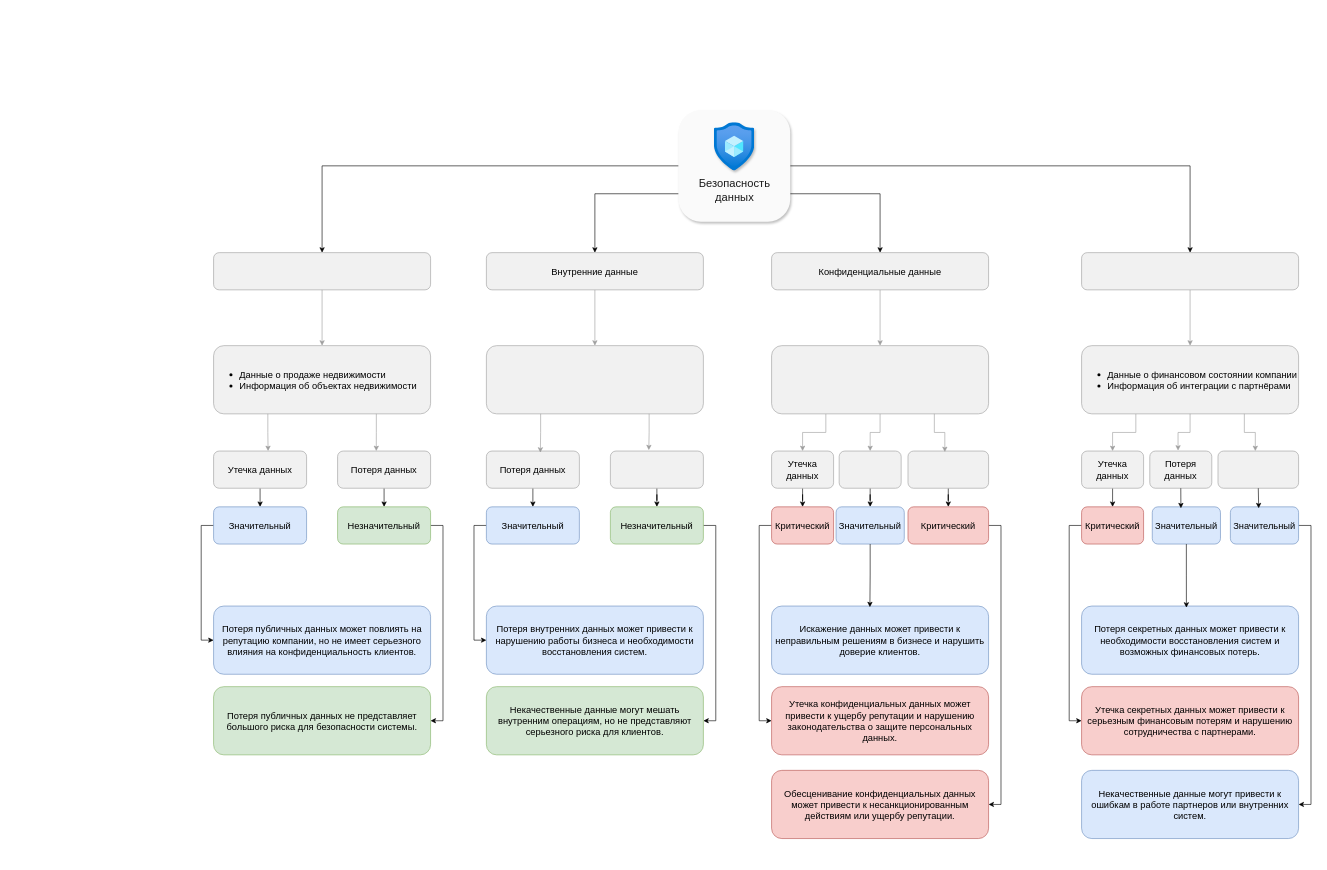
This 1327x870 diagram has some shape labels left out. Here are the shapes that lost their labels. From the top down, the centre of each, then its label:
At [322,271]: "Публичные данные".
At [1190,271]: "Секретные данные".
At [594,379]: "Системные логи Ошибки и отчёты".
At [880,379]: "Контактная информация клиентов Данные о транзакциях".
At [656,469]: "Некачественные данные".
At [870,469]: "Искажение данных".
At [948,469]: "Обесценивание данных".
At [1258,469]: "Некачественные данных".
